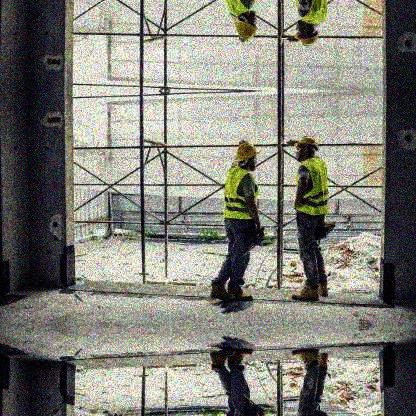helmet: (293, 20, 321, 46), (234, 11, 259, 40), (294, 134, 320, 161), (236, 143, 260, 170)
